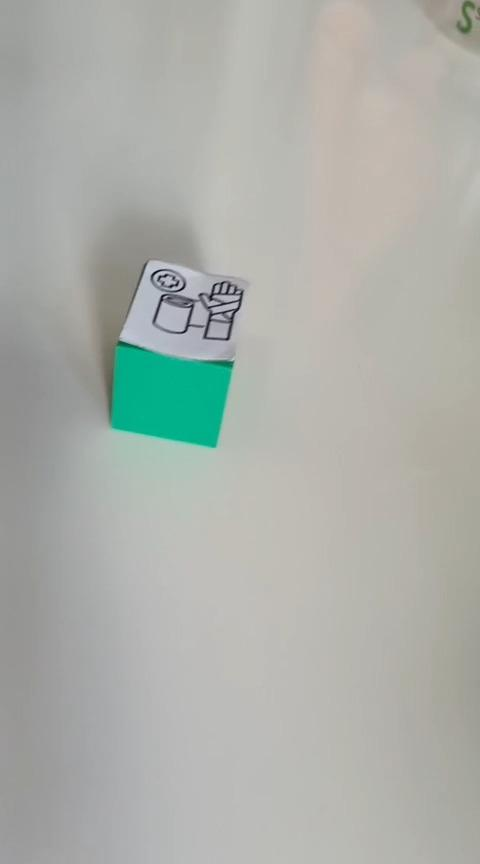Bandages: (108, 257, 249, 448)
